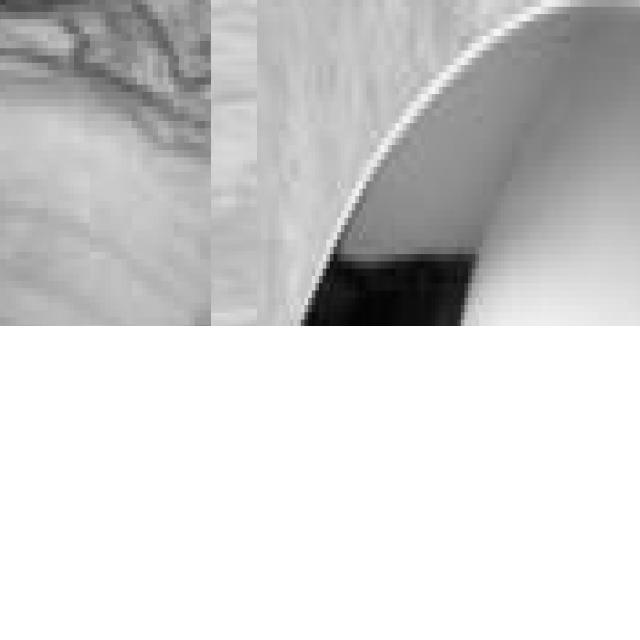spoons: (260, 0, 640, 326), (0, 0, 211, 326)
